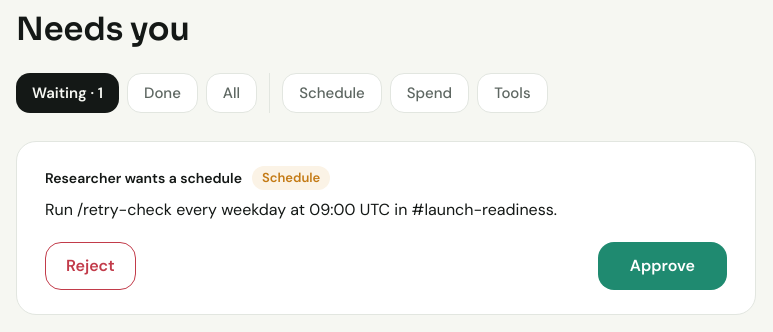
Test: approvals/+page.svelte › defaults to Waiting — a resolved approval only appears under Done
Expected: the text "Researcher wants a schedule" is shown, [45,168,242,188]
Step 1. Click the button "Done" → point(162, 93), box [127,73,198,113]
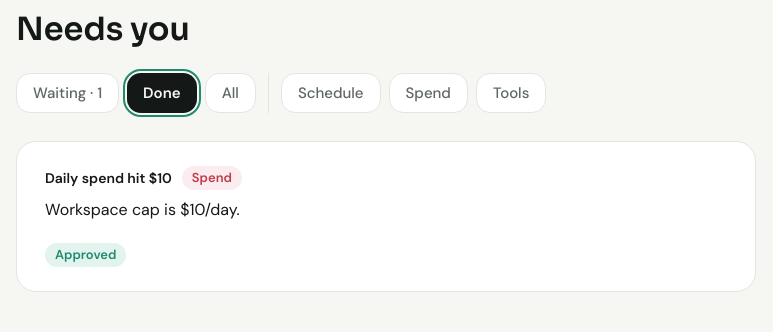
Now the text "Approved" is shown, box [45,243,126,267]
